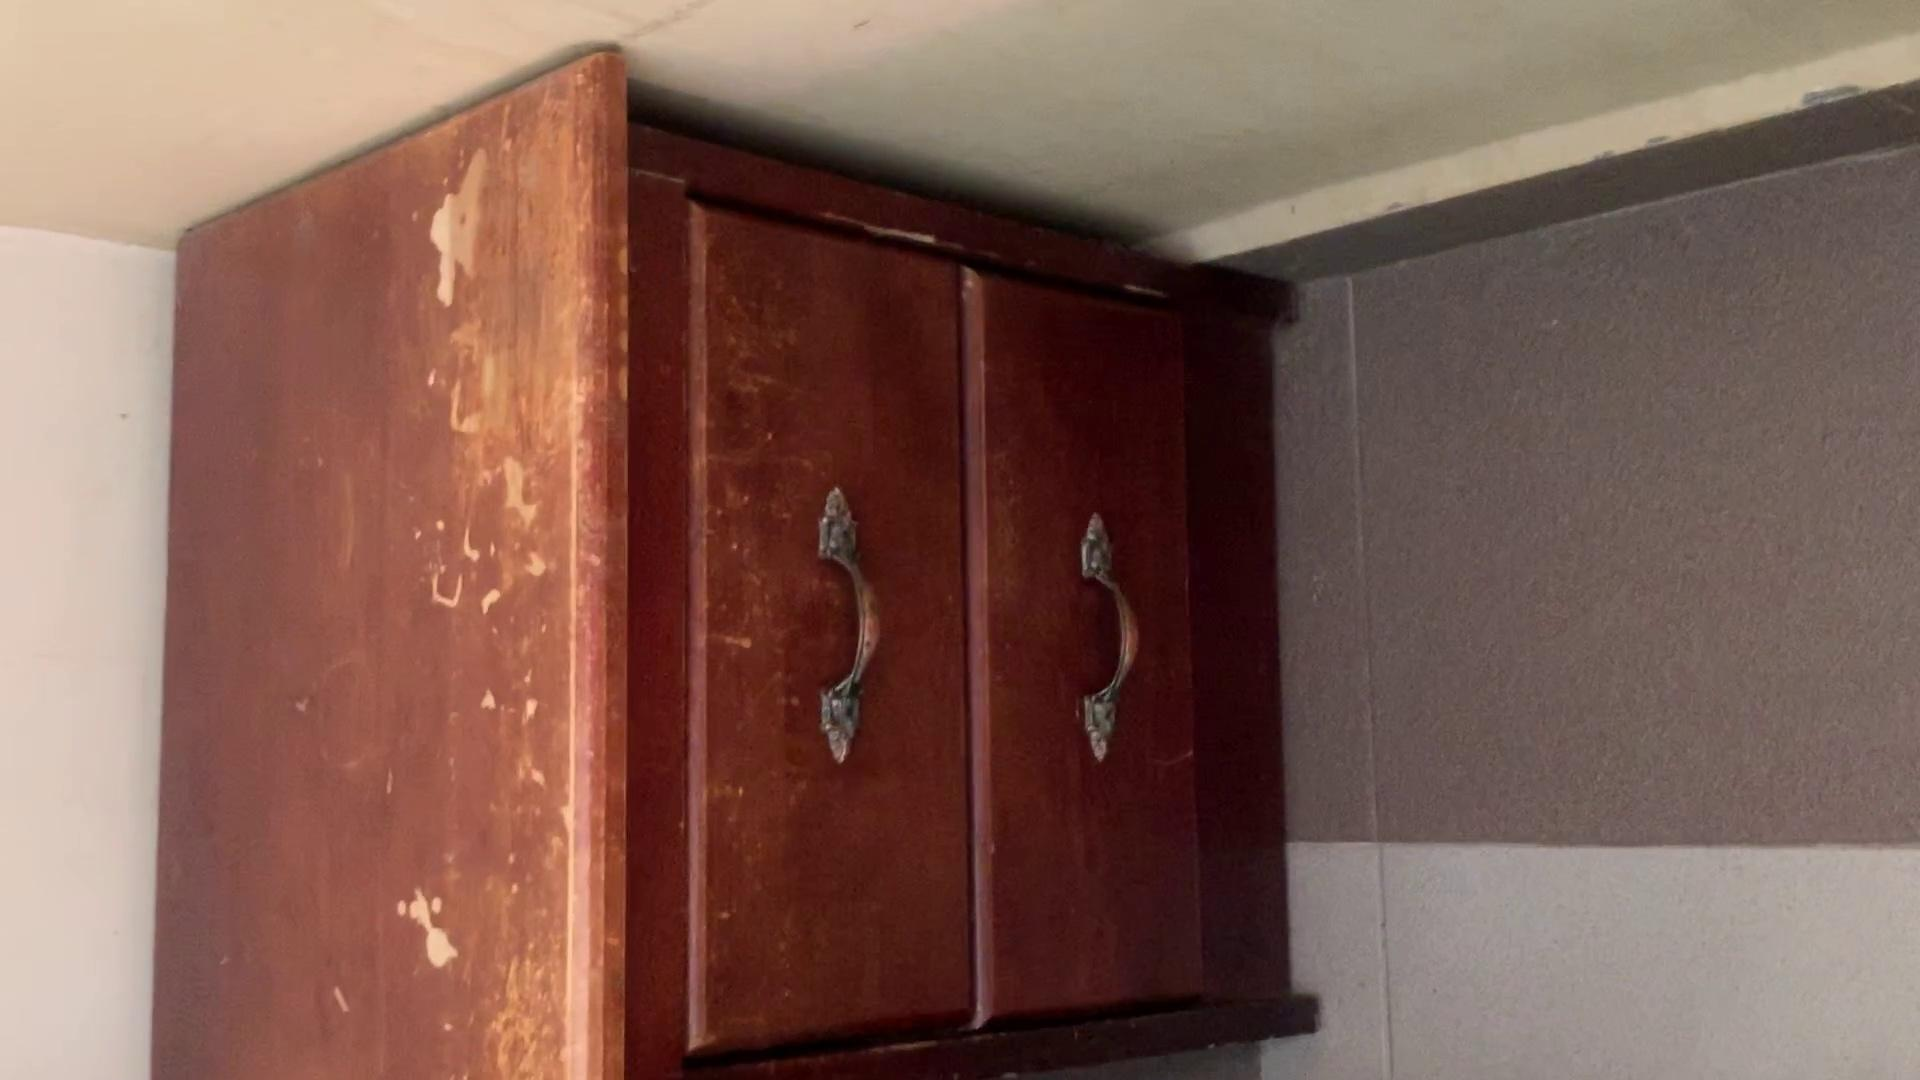cabinet_door: (683, 247, 967, 1080), (1002, 314, 1205, 1055)
handle: (803, 488, 894, 754), (1067, 526, 1150, 756)
